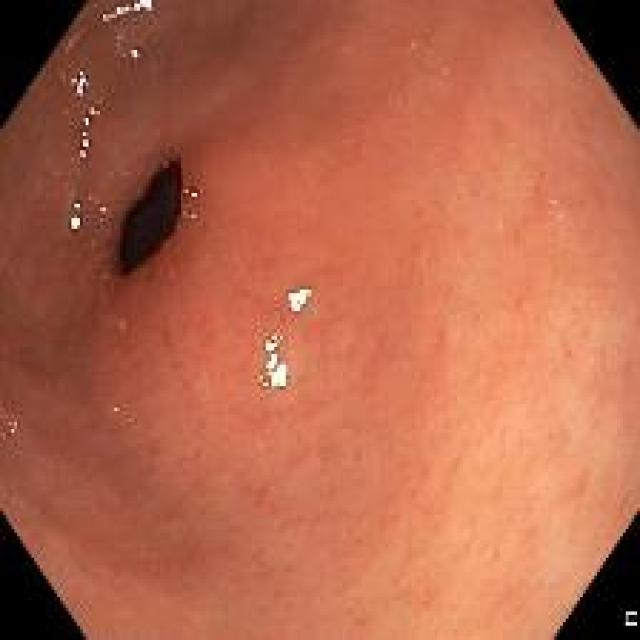bubbles: (181, 184, 199, 201), (182, 205, 199, 223), (95, 204, 108, 223), (112, 31, 122, 49)
contrast: (121, 158, 181, 276)
specularity: (256, 332, 291, 390), (101, 0, 155, 18), (80, 106, 97, 160), (287, 286, 312, 311), (67, 71, 85, 93), (69, 202, 82, 228), (129, 46, 139, 59)
